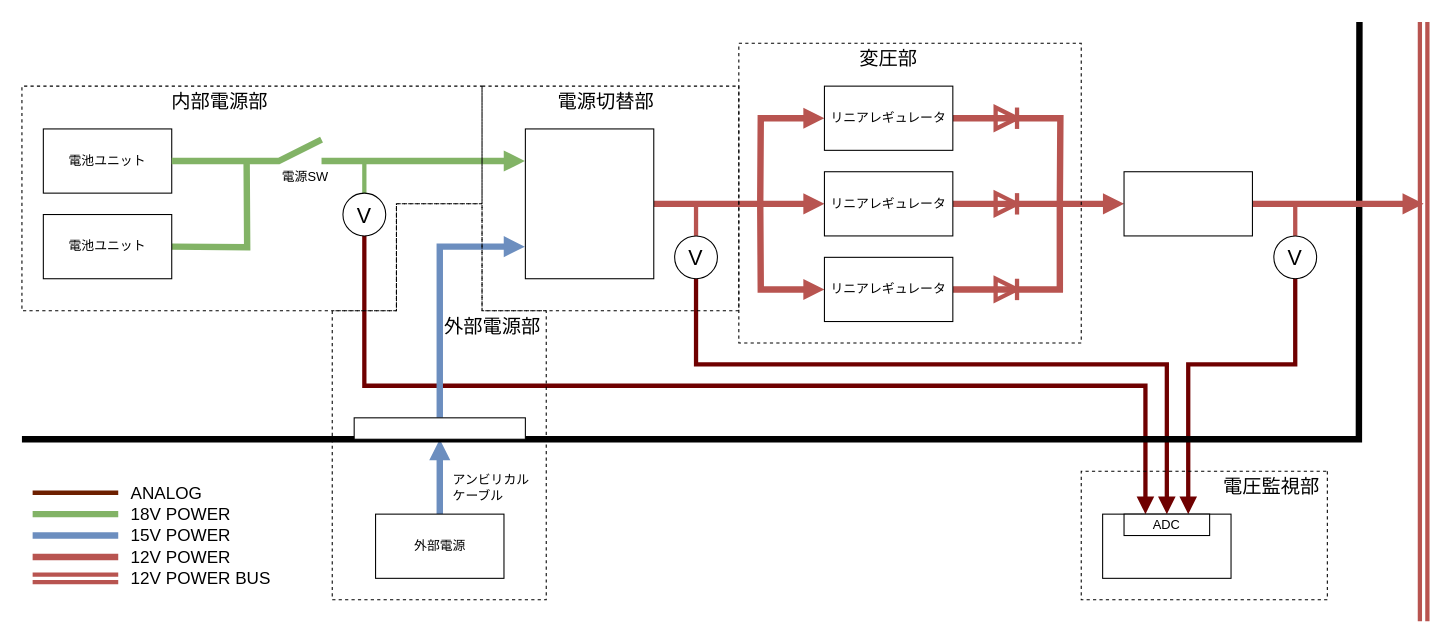
Some shapes in this 1451 by 641 pixel diagram are drawn without their labels. The shapes that lost their labels are listed below. From the top down, each one's box as (x1, y1, x2, y2) in pixels, then its label:
(524, 128, 654, 279): パワーパス コントローラ LTC4416
(1123, 171, 1252, 236): バックアップ電源
(353, 417, 525, 439): アンビリカルコネクタ
(1102, 513, 1231, 578): フライト モジュール
